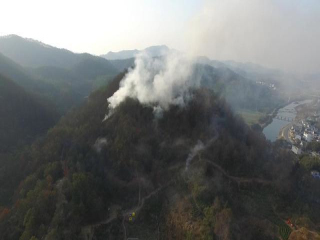smoke: (102, 7, 253, 123)
